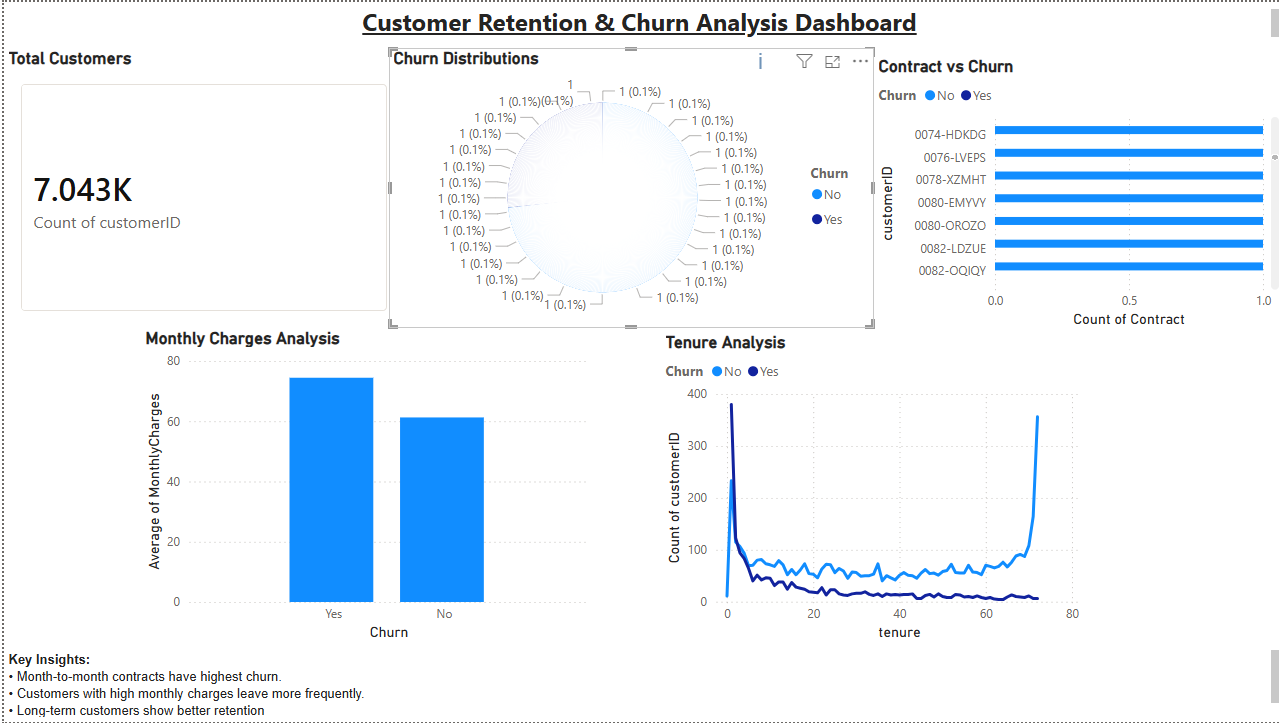

The page's visual inventory and layout, read from the dashboard file:
{"tool":"powerbi","page":{"name":"Page 1","canvas":[1280,720],"ordinal":0},"visuals":[{"type":"cardVisual","title":"Total Customers","fields":{"Data":["CountNonNull(WA_Fn-UseC_-Telco-Customer-Churn.customerID)"]},"box":[0,46,400,280],"z":0},{"type":"pieChart","title":"Churn Distributions","fields":{"Category":["WA_Fn-UseC_-Telco-Customer-Churn.Churn"],"Series":["WA_Fn-UseC_-Telco-Customer-Churn.customerID"],"Y":["CountNonNull(WA_Fn-UseC_-Telco-Customer-Churn.customerID)"]},"box":[385,46,485,280],"z":1000},{"type":"clusteredBarChart","title":"Contract vs Churn","fields":{"Y":["CountNonNull(WA_Fn-UseC_-Telco-Customer-Churn.Contract)"],"Category":["WA_Fn-UseC_-Telco-Customer-Churn.customerID"],"Series":["WA_Fn-UseC_-Telco-Customer-Churn.Churn"]},"box":[870,54,410,276],"z":2000},{"type":"clusteredColumnChart","title":"Monthly Charges Analysis","fields":{"Category":["WA_Fn-UseC_-Telco-Customer-Churn.Churn"],"Y":["Avg(WA_Fn-UseC_-Telco-Customer-Churn.MonthlyCharges)"]},"box":[137,326,452,317],"z":2001},{"type":"lineChart","title":"Tenure Analysis","fields":{"Category":["WA_Fn-UseC_-Telco-Customer-Churn.tenure"],"Y":["CountNonNull(WA_Fn-UseC_-Telco-Customer-Churn.customerID)"],"Series":["WA_Fn-UseC_-Telco-Customer-Churn.Churn"]},"box":[657,330,426,313],"z":2002},{"type":"textbox","box":[0,0,1280,40],"z":2003},{"type":"textbox","box":[0,643,1280,77],"z":2004}]}

Visuals, with their boxes in screenshot pixels (x1, y1, x2, y2), scaled from the page's 1280x720 canvas onto the 1281x723 screenshot:
"Total Customers" cardVisual: locate(0, 46, 400, 327)
"Churn Distributions" pieChart: locate(385, 46, 871, 327)
"Contract vs Churn" clusteredBarChart: locate(871, 54, 1280, 331)
"Monthly Charges Analysis" clusteredColumnChart: locate(137, 327, 589, 646)
"Tenure Analysis" lineChart: locate(658, 331, 1084, 646)
textbox: locate(0, 0, 1280, 40)
textbox: locate(0, 646, 1280, 722)
